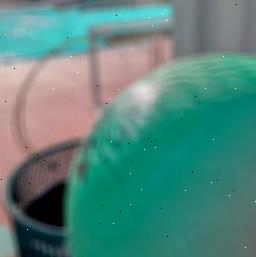algae: (62, 45, 256, 257)
